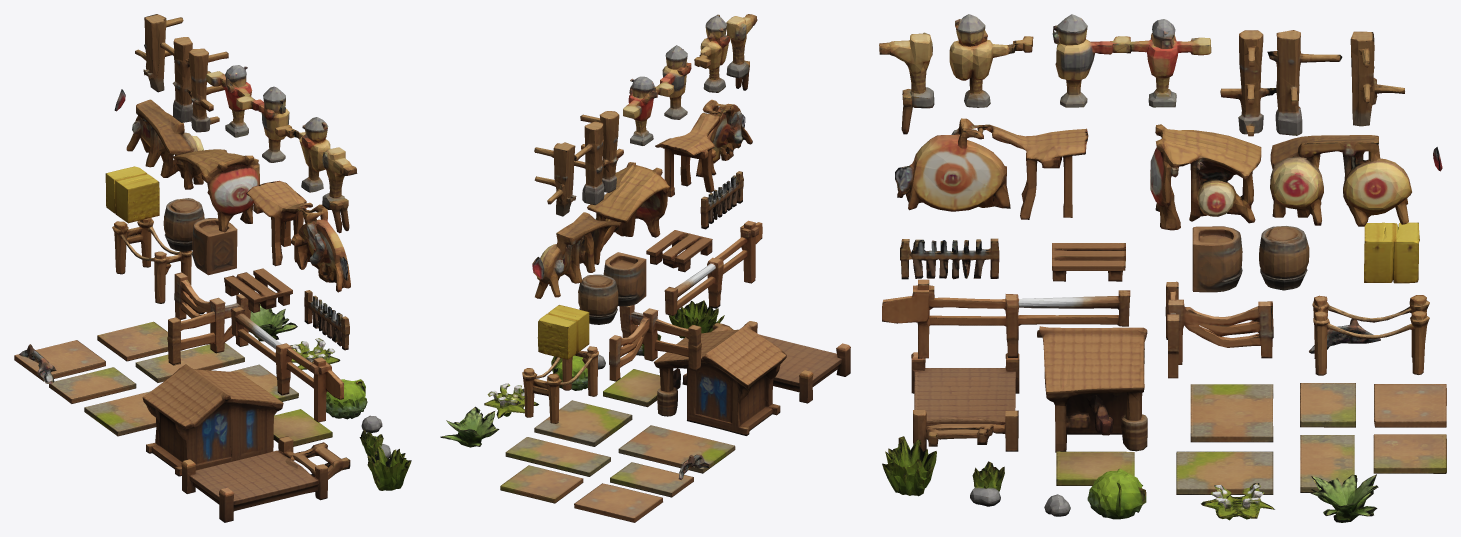
File: Create_a_modular_medieval_fant.glb
The picture shows the model from 3 angles, left to right: view 1: azimuth 30°, elevation 25°; view 2: azimuth 150°, elevation 25°; view 3: azimuth 270°, elevation 25°; orthographic projection. The views are drawn at different scales.
Visible parts, largest first — view 1: world; view 2: world; view 3: world.
Part boxes in pixels (left/top/right/bottom): world: left=14, top=14, right=411, bottom=522; world: left=440, top=14, right=850, bottom=522; world: left=879, top=14, right=1446, bottom=522.
Bounding box in the file's own units: 0.6557 × 0.8754 × 1.
Materials: 1 (1 with a texture image).
